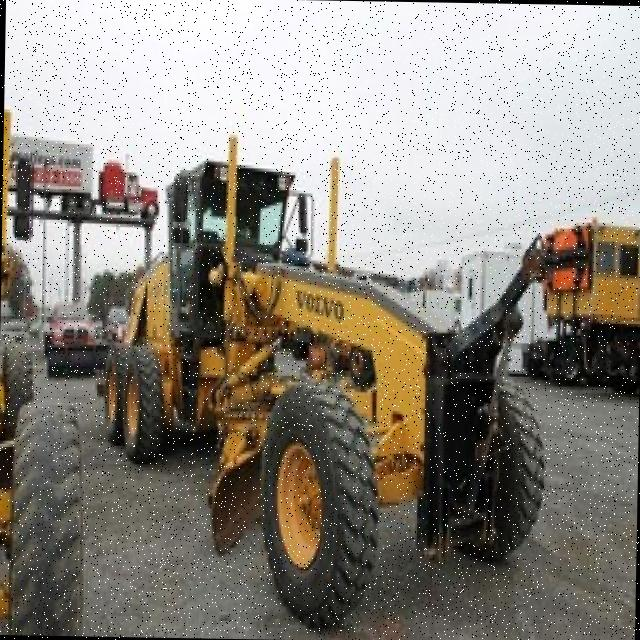Grader: (79, 139, 581, 640)
